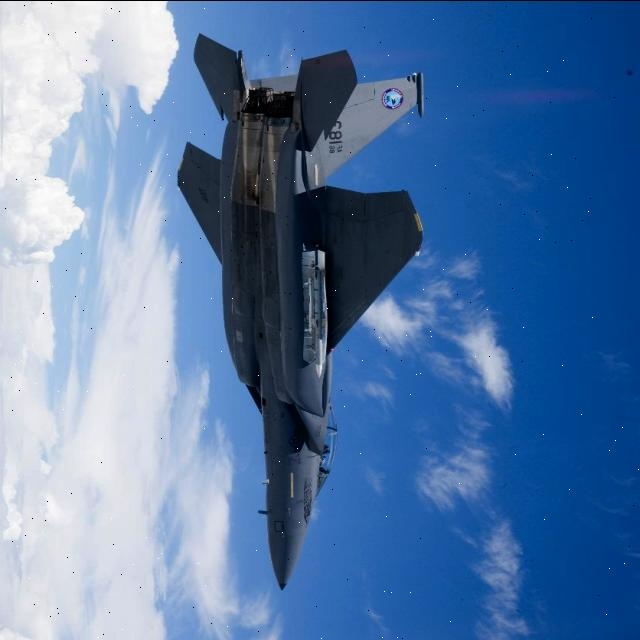F15: (148, 16, 460, 594)
